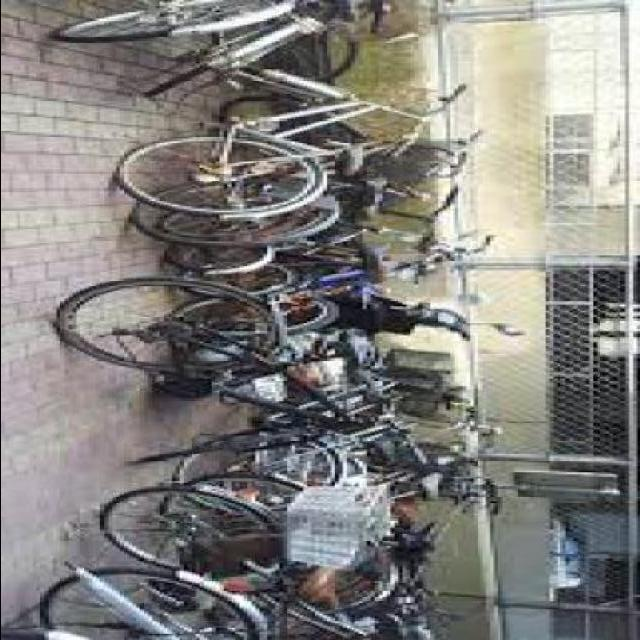bicycle: (66, 264, 410, 468), (115, 57, 466, 215)
